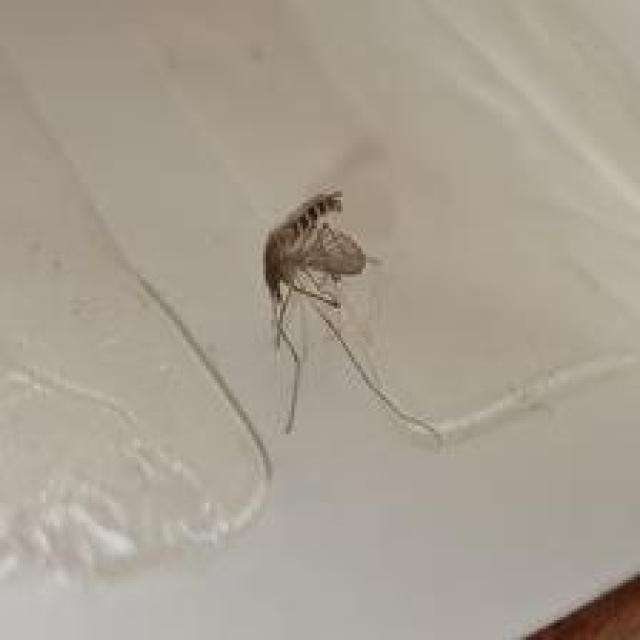Culex: (260, 187, 443, 447)
